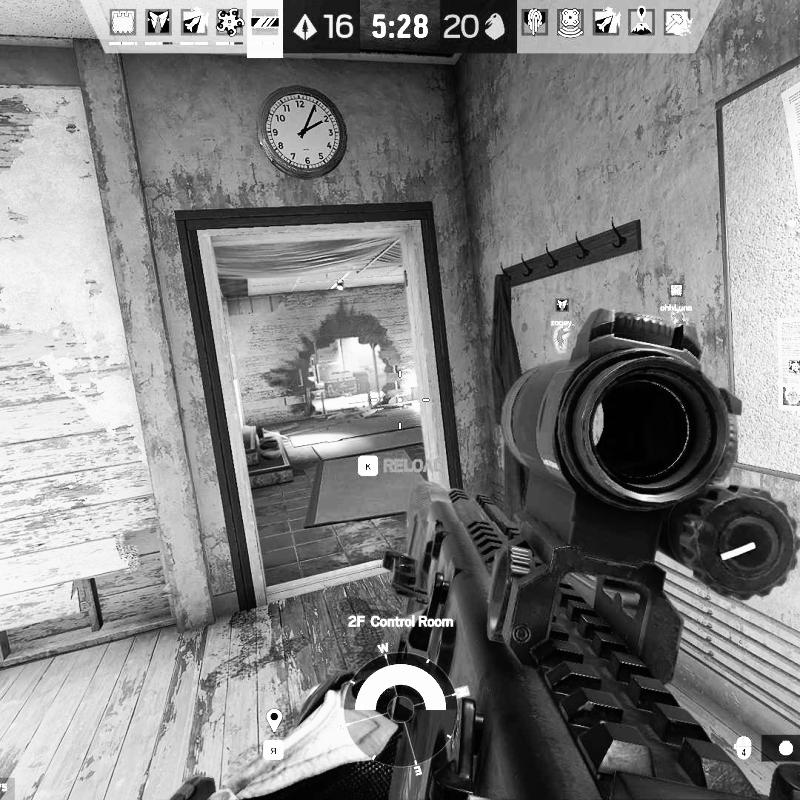Friend_label: (659, 283, 693, 312), (550, 297, 575, 327), (776, 358, 800, 388)
